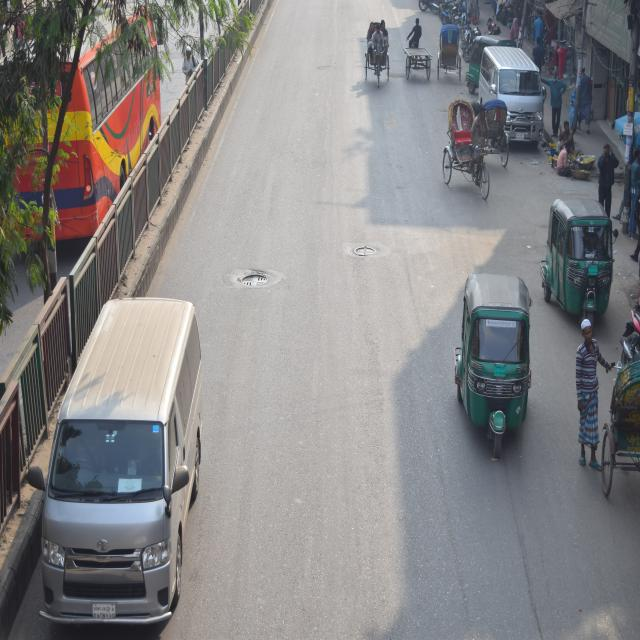bus: (5, 28, 163, 240)
microbus: (34, 292, 226, 630), (478, 39, 566, 152)
